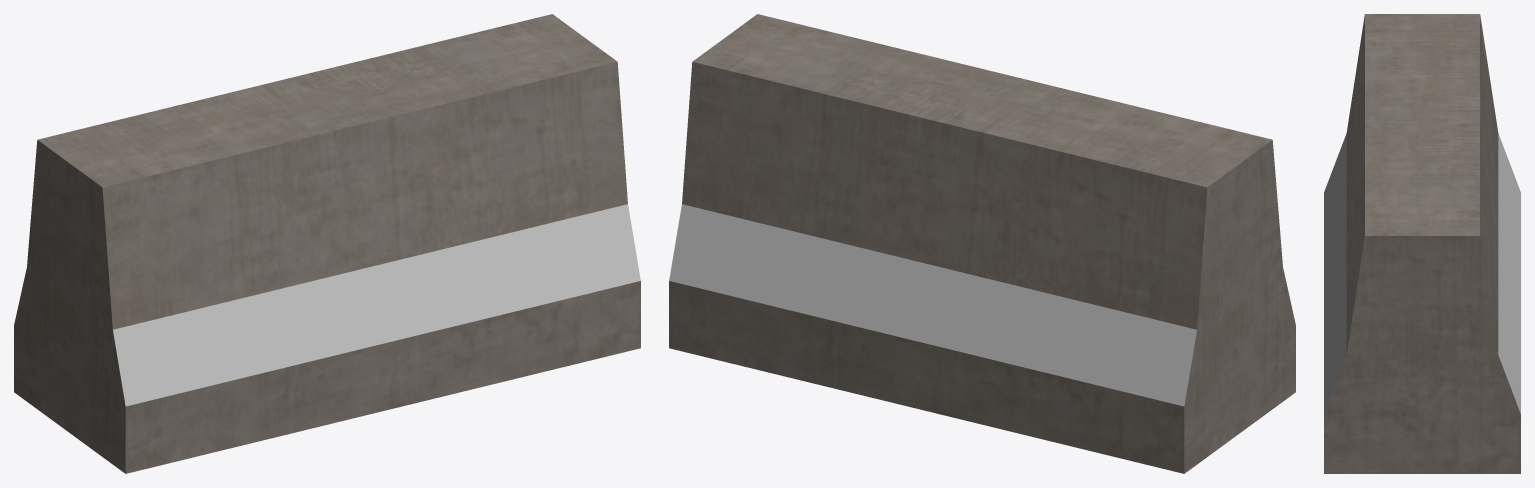
File: detailBarrierStrong_typeB.fbx
The picture shows the model from 3 angles, left to right: view 1: azimuth 30°, elevation 25°; view 2: azimuth 150°, elevation 25°; view 3: azimuth 270°, elevation 25°; orthographic projection. The views are drawn at different scales.
Visible parts, largest first — view 1: detailBarrierStrong_typeB; view 2: detailBarrierStrong_typeB; view 3: detailBarrierStrong_typeB.
Boxes of the visible parts, x1,y1,x2,y2 form: detailBarrierStrong_typeB: (14, 14, 640, 473); detailBarrierStrong_typeB: (669, 14, 1295, 473); detailBarrierStrong_typeB: (1324, 14, 1520, 473).
Size of the model in its own units: 6.64 by 3.32 by 2.49.
